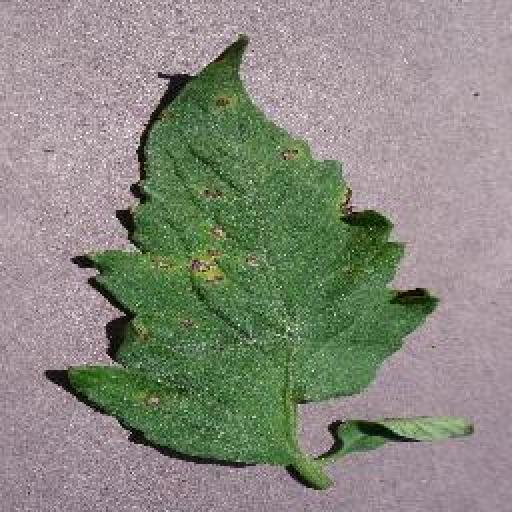disease_tomato: (56, 34, 439, 466)
